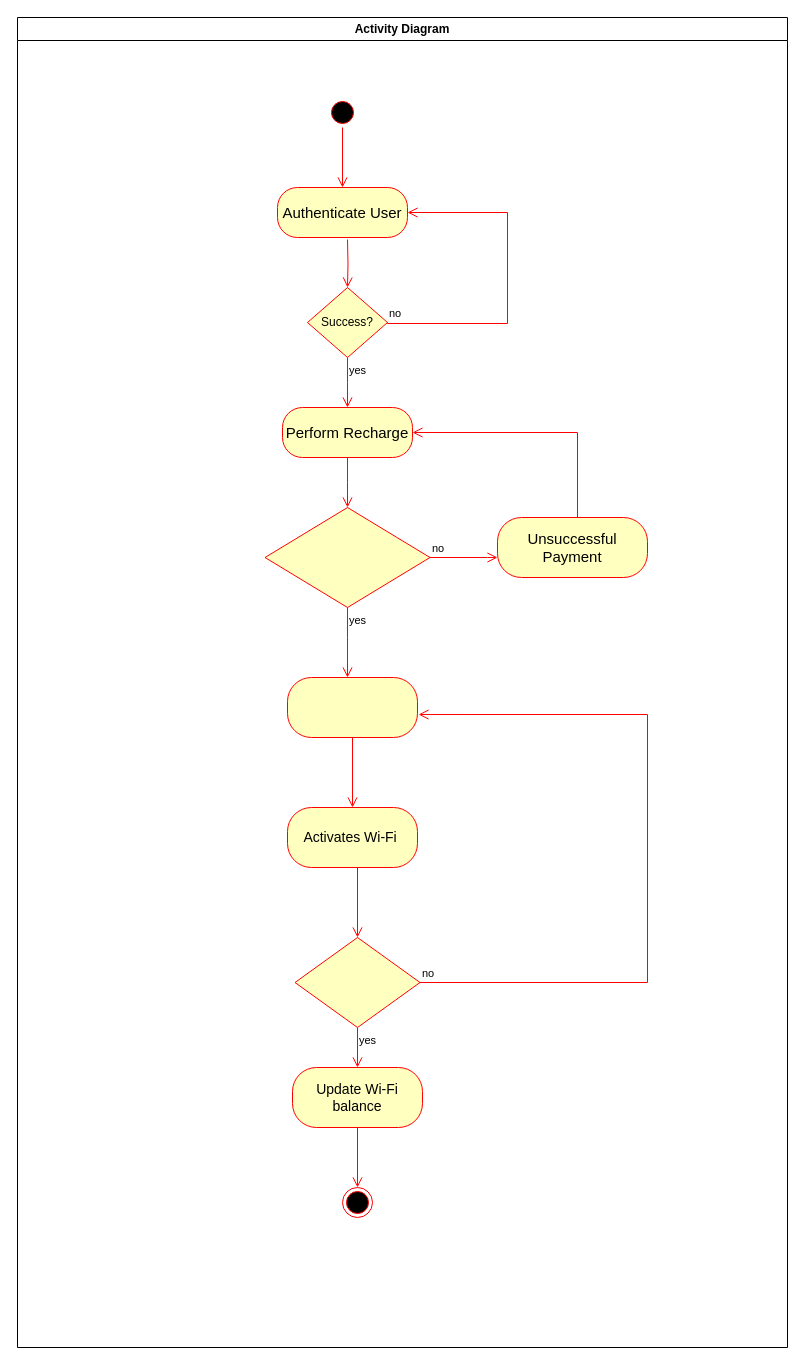
Image size: 805x1365. Some labels were removed from this diagram. The shapes that lost their labels are listed below. From the top down, each one's centre as x and y in pixels, then its label:
(347,557): Payment Successful
(352,707): Request transmitted to Wi-Fi Provider
(357,982): Operation Successful
